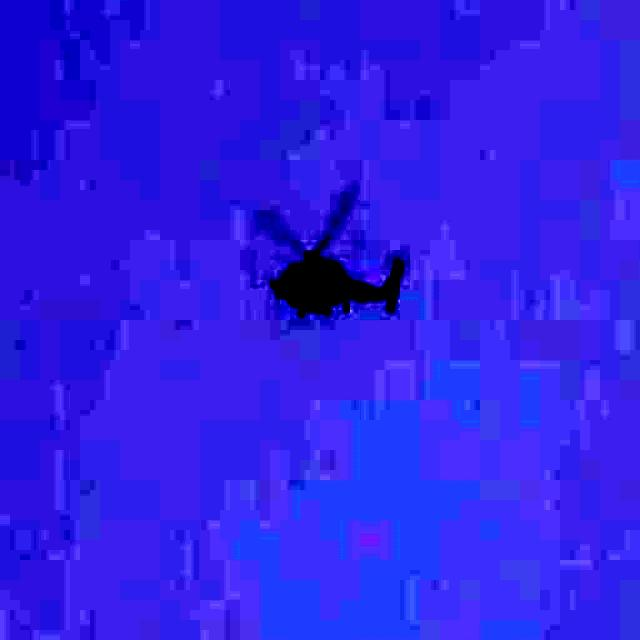drone: (249, 180, 419, 366)
